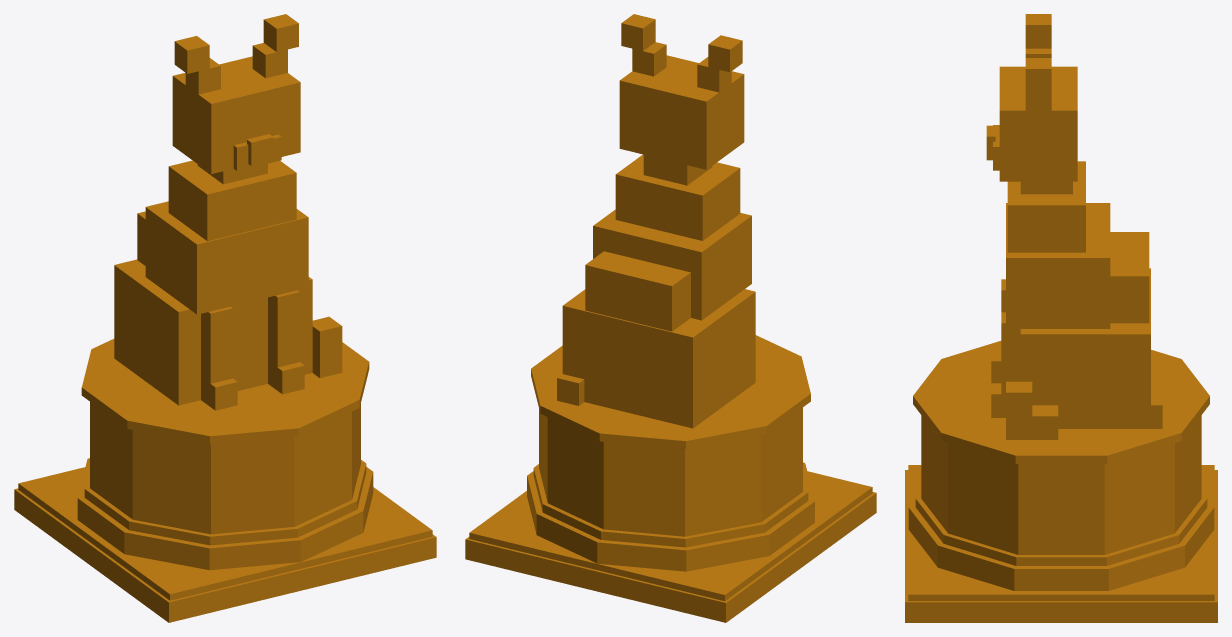
File: aldrich_cat_statue.obj
3 renders of one model, left to right at view 1: azimuth 30°, elevation 25°; view 2: azimuth 150°, elevation 25°; view 3: azimuth 270°, elevation 25°, orthographic. The views are drawn at different scales.
Visible parts, largest first — view 1: aldrich_cat_statue; view 2: aldrich_cat_statue; view 3: aldrich_cat_statue.
Boxes of the visible parts, x1,y1,x2,y2 form: aldrich_cat_statue: [14, 14, 436, 622]; aldrich_cat_statue: [465, 14, 876, 622]; aldrich_cat_statue: [905, 14, 1217, 622].
Size of the model in its own units: 0.96 by 1.75 by 0.96.
